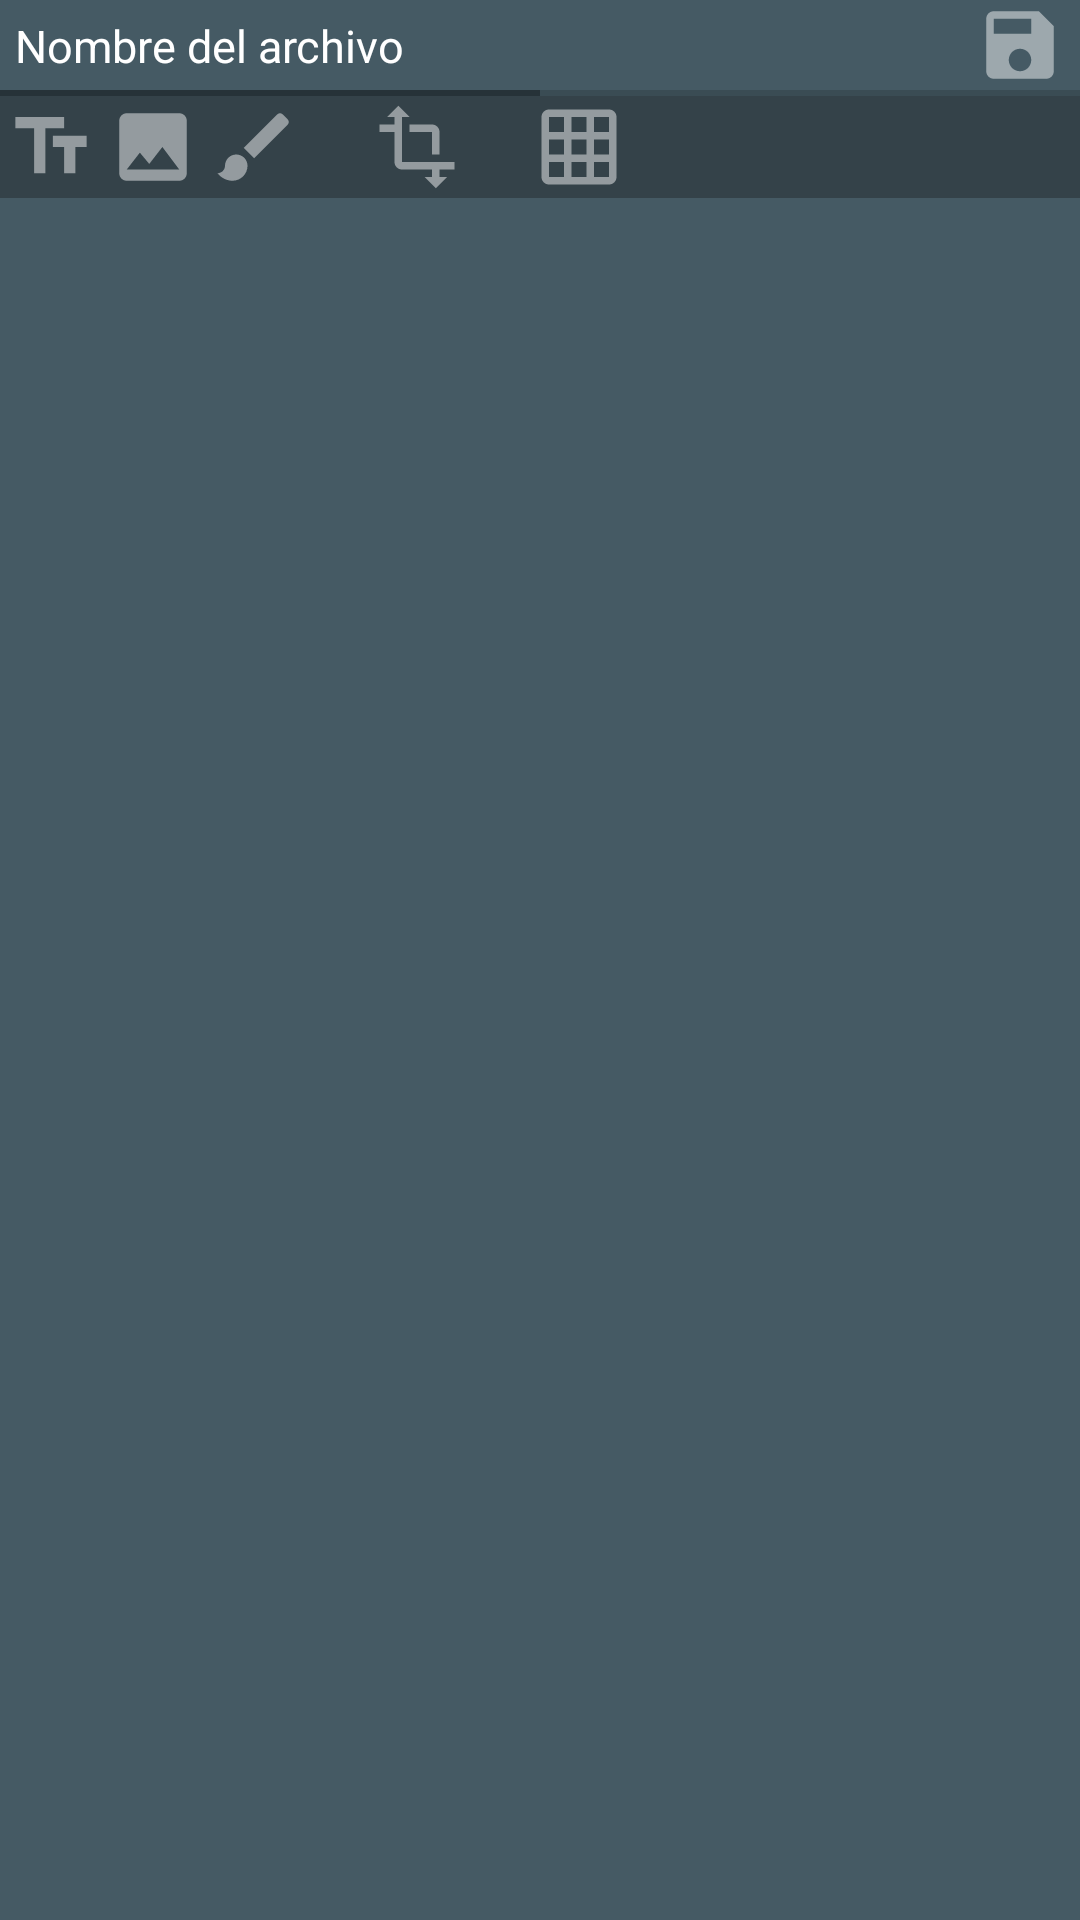

Named icons in this screenshot (1080×1920) and their bounding boxes, (x1, y1, x2, y2):
panel titulo addimage: (119, 113, 187, 181)
panel titulo addtext: (15, 117, 87, 173)
panel titulo draw: (218, 113, 289, 181)
panel titulo grid on: (541, 109, 617, 185)
panel titulo resize: (379, 106, 455, 188)
panel titulo save: (986, 11, 1054, 79)
